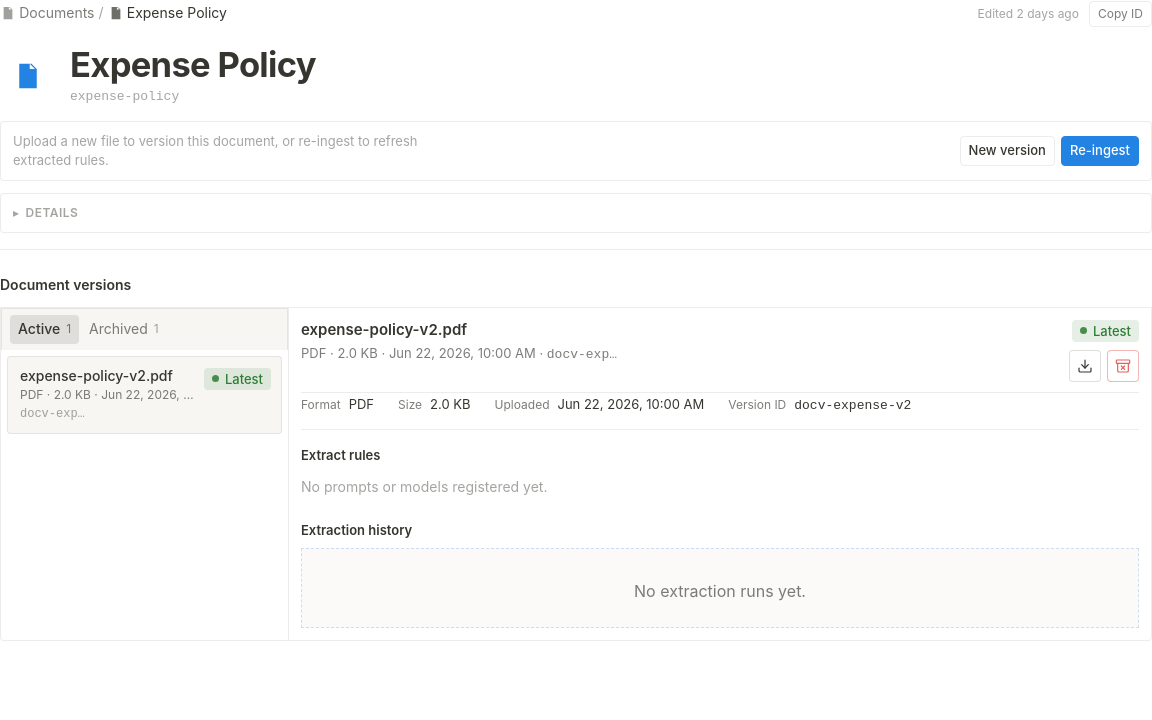
Test case: DocumentDetail › requires a deletion reason before archiving a version
Expected: the text "docv-expense-v2" is shown, top-left (794, 398), bottom-right (911, 413)
Click the button named "Strike from register": (1123, 366) top-left (1107, 350), bottom-right (1139, 382)
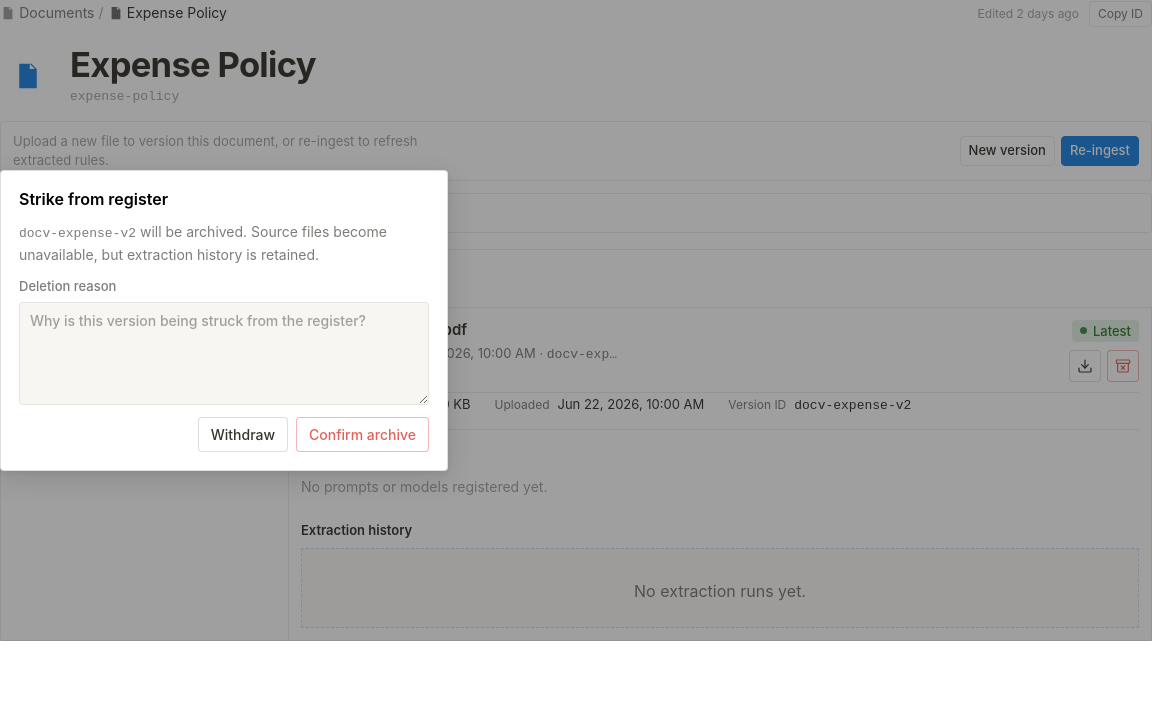
Click the button "Confirm archive": (363, 434) top-left (296, 417), bottom-right (429, 452)
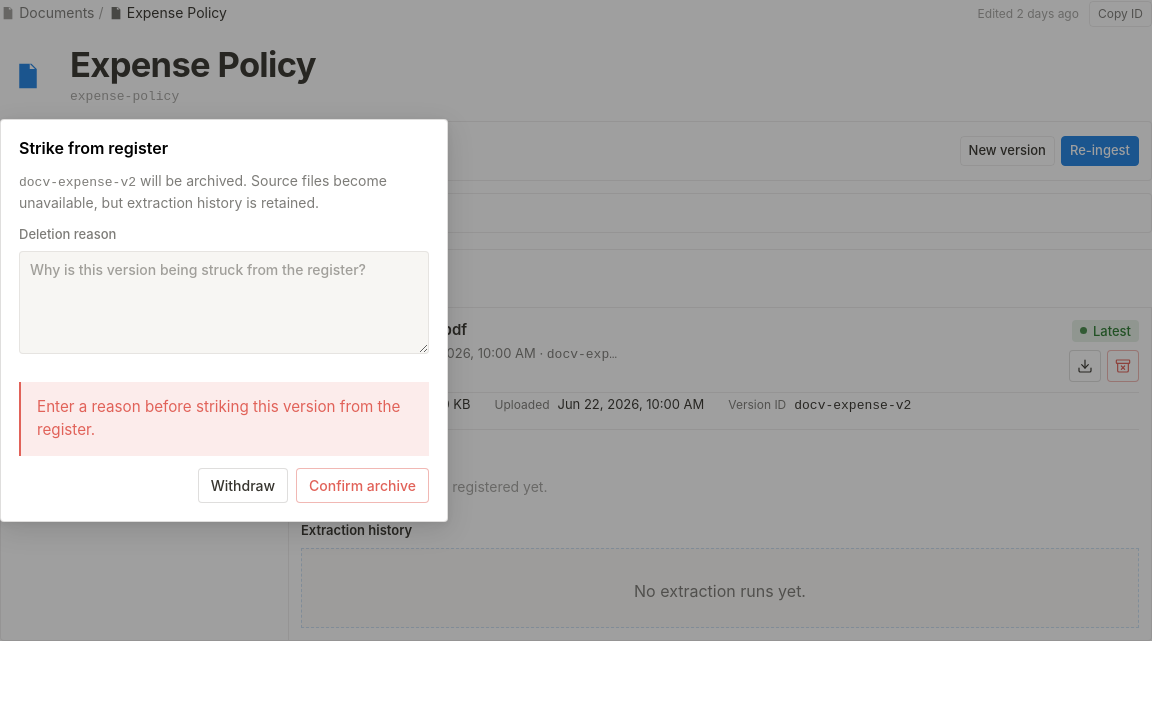
Now the text "Enter a reason before striking this version from the register." is shown, box top-left (19, 382), bottom-right (429, 456)
